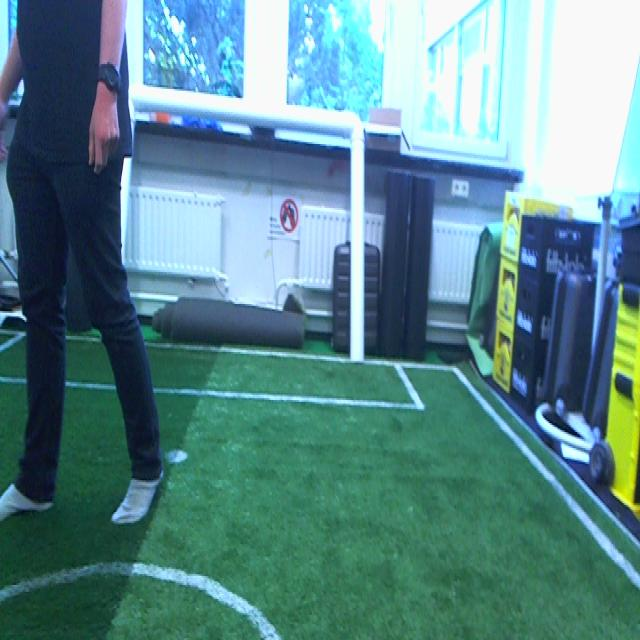goalpost: (350, 135, 366, 361)
